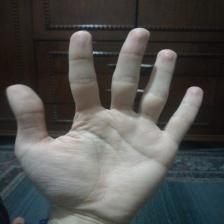five: (4, 23, 208, 220)
